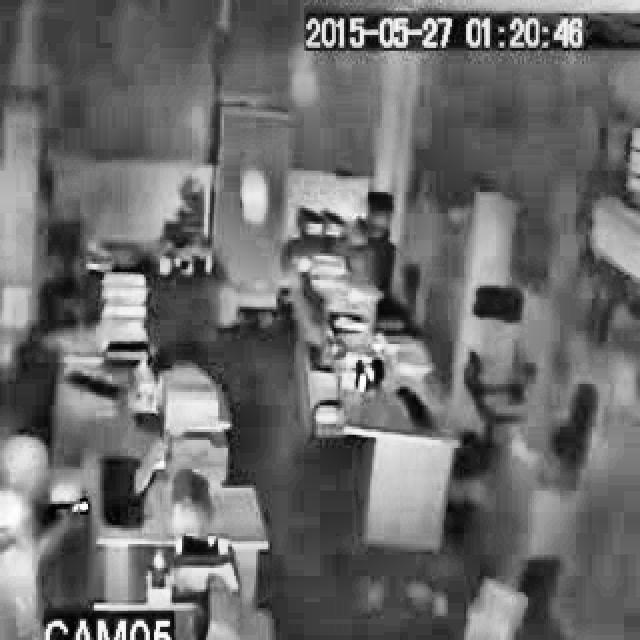burglary: (0, 430, 101, 630)
